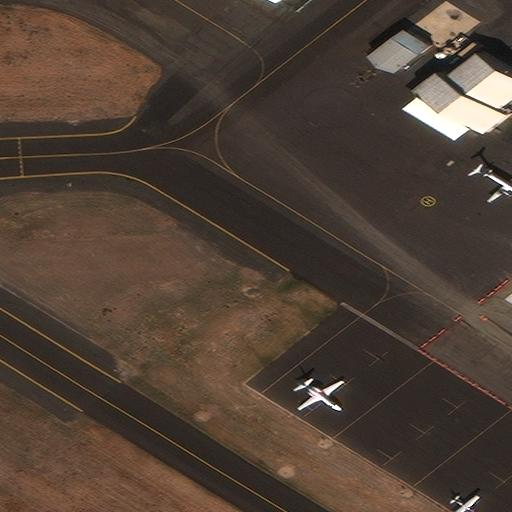Medium Civil Transport: (473, 169, 511, 203), (299, 382, 344, 410)
Small Civil Transport: (452, 497, 480, 512)
